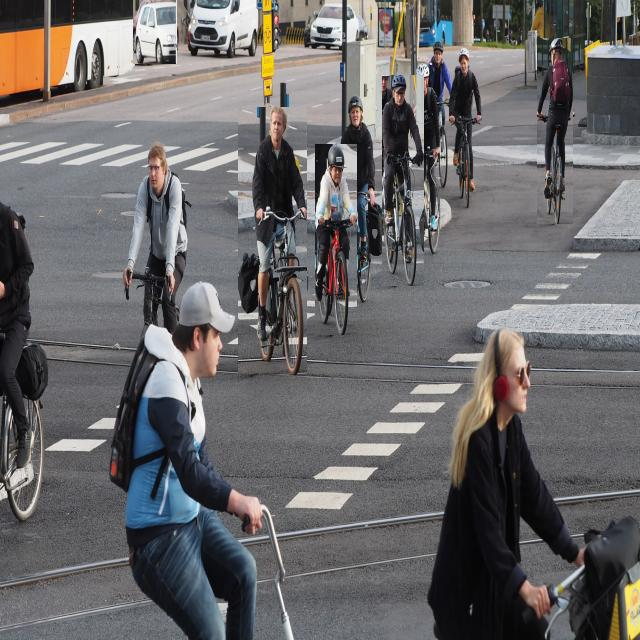bicycle: (239, 107, 307, 375), (382, 75, 424, 286), (316, 145, 357, 335), (538, 38, 573, 224), (449, 47, 481, 206)
car: (189, 0, 259, 58), (134, 0, 177, 64), (310, 0, 360, 49)
